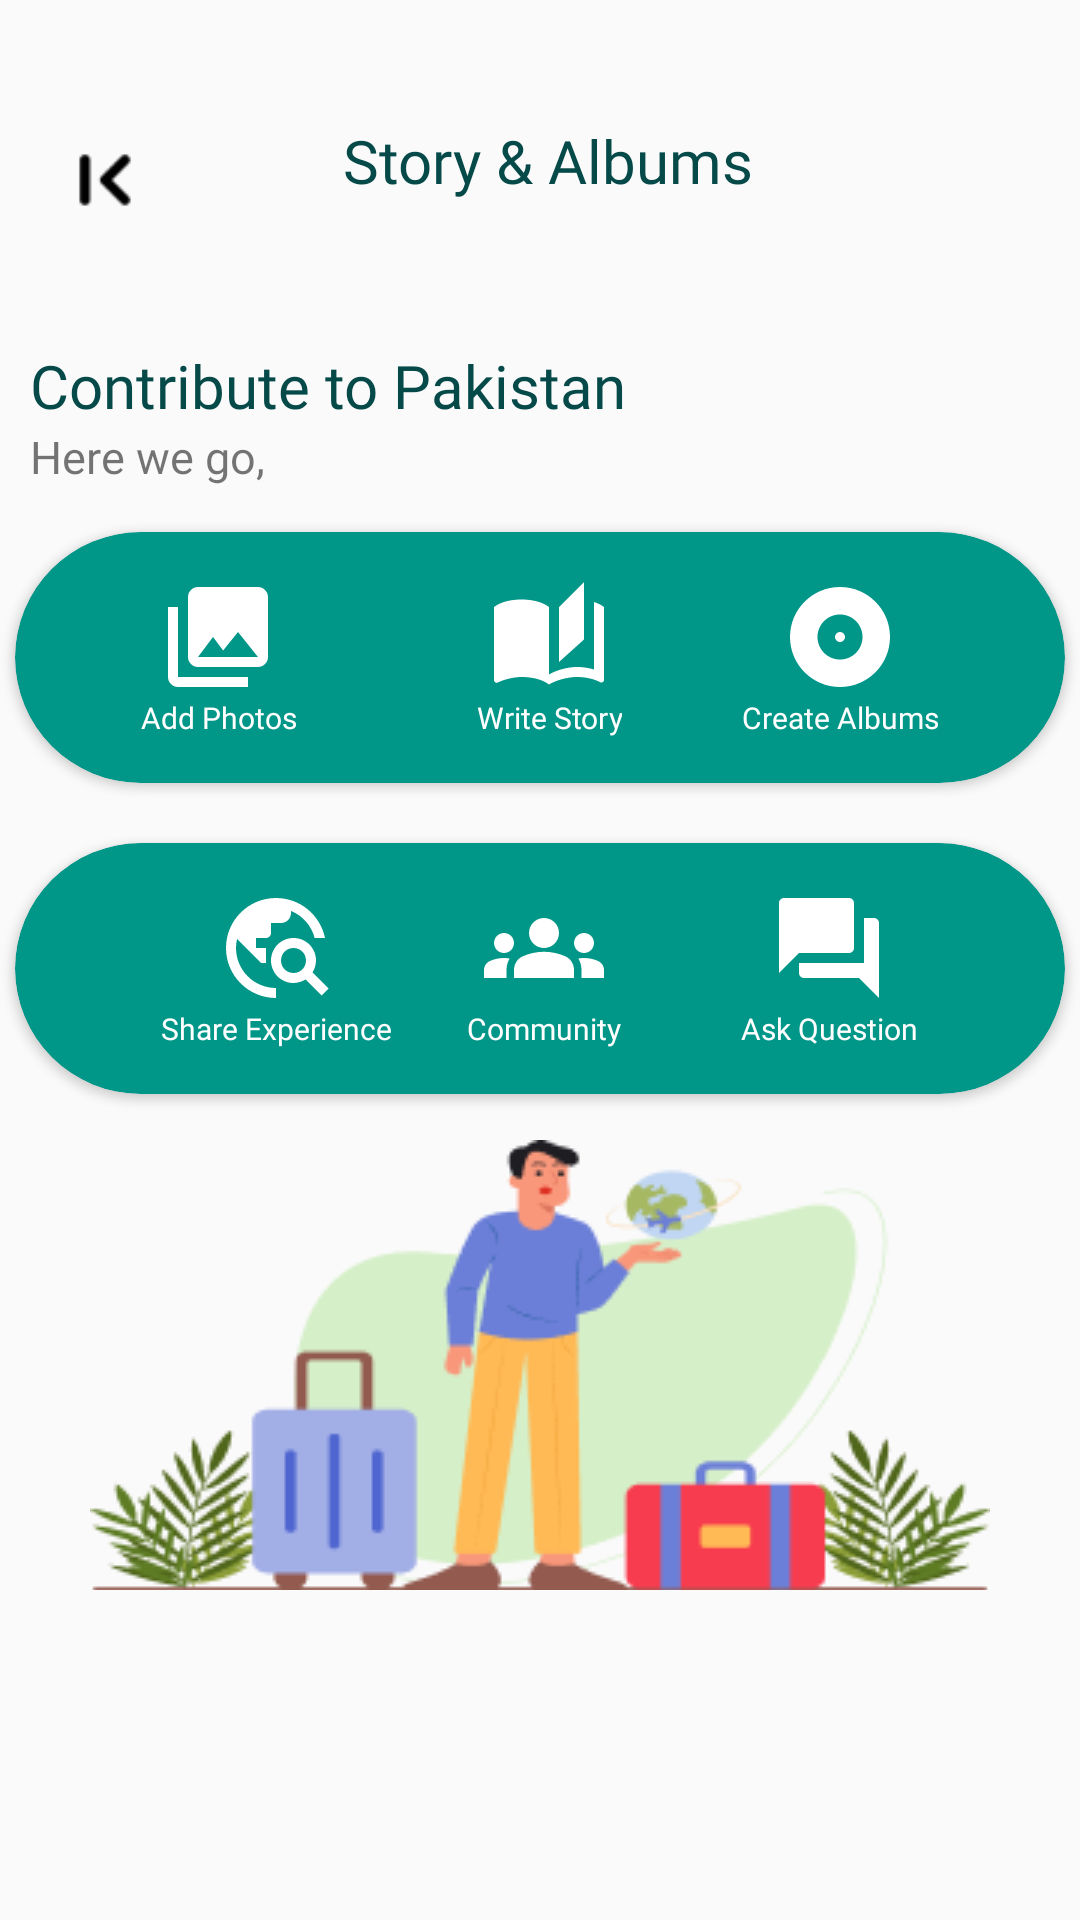

Icons on this 1080px x 1920px Android screen, each with its box as (x1, y1, x2, y2):
back: (79, 154, 131, 206)
